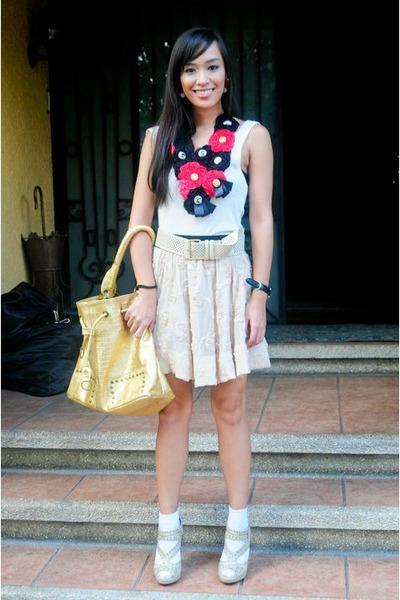bag: (67, 252, 174, 437)
dress: (154, 118, 270, 386)
shoe: (154, 506, 251, 579)
